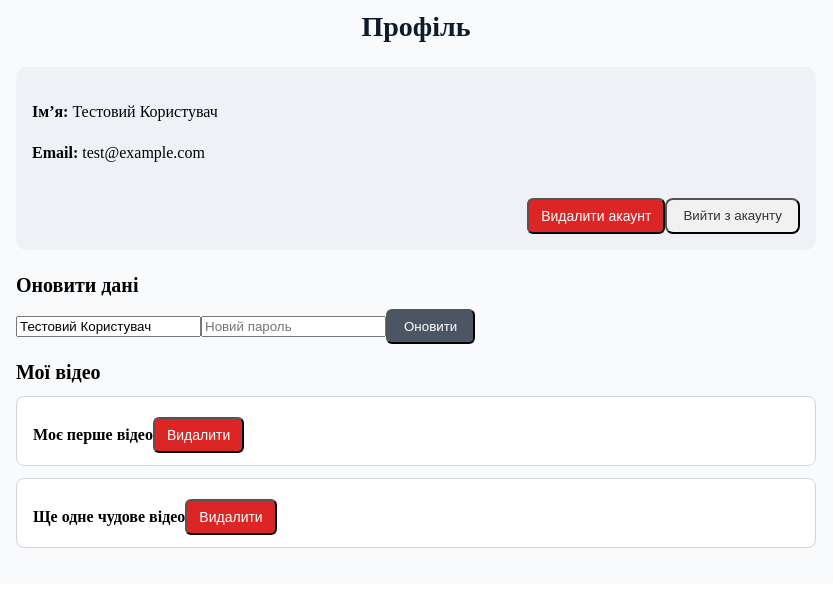
it: ProfilePage › displays error message on update failure
What coordinates should you click on to do the following:
click the button "Оновити"
I would click on:
 (431, 326)
Its box is [386,309,475,344].
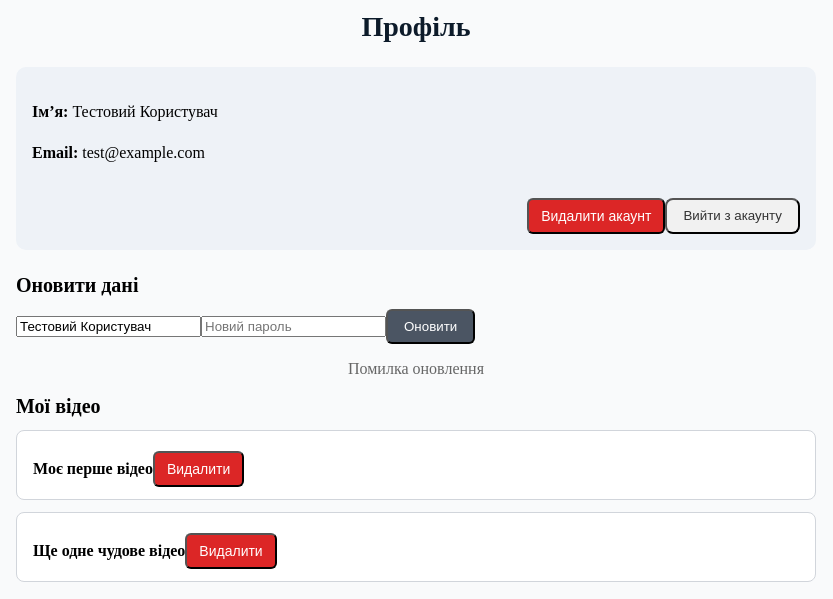
Expected: the text "Помилка оновлення" is shown, [348,360,484,377]
